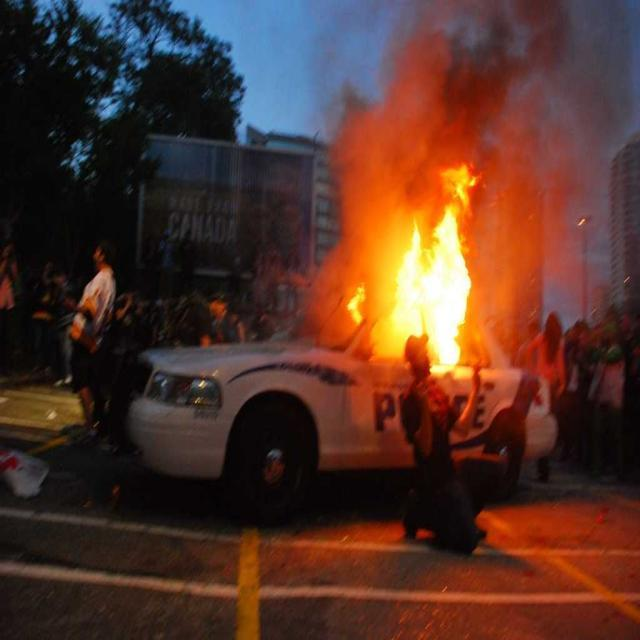Fire: (401, 257, 463, 341)
Smoke: (348, 103, 436, 198)
